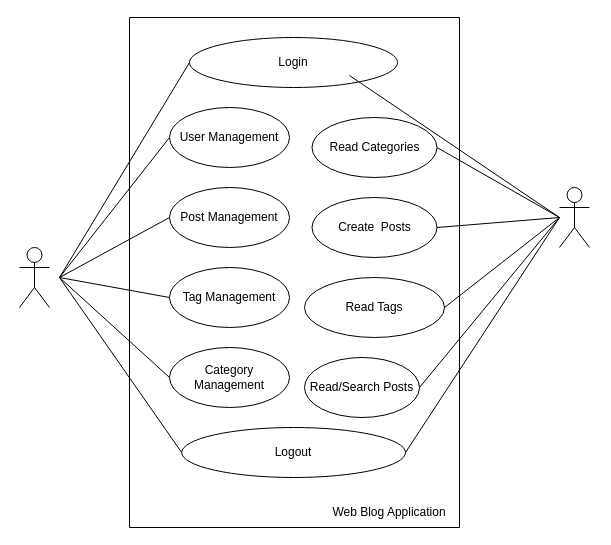
The diagram is 611 pixels wide and 545 high, and some of its shapes have lost their labels. The shapes that lost their labels are listed below. From the top down, each one's centre as x and y in pixels, then its label:
pixel 574 217: Reader
pixel 34 277: Admin
